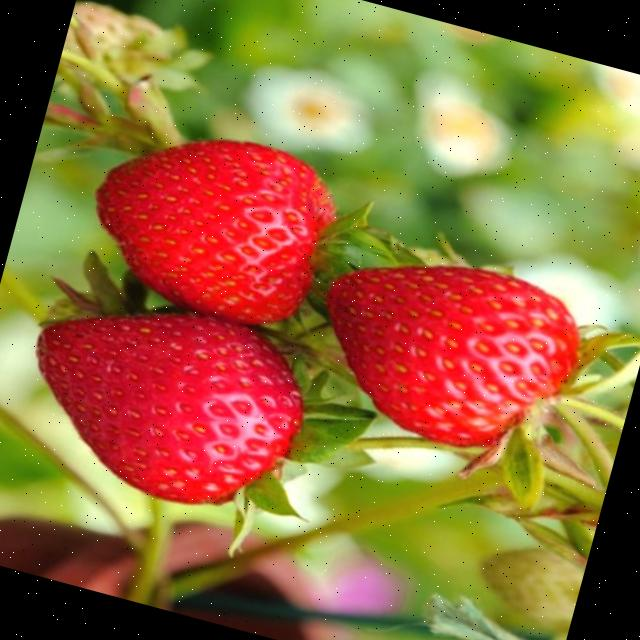strawberry: (36, 314, 301, 504), (325, 265, 577, 447), (95, 140, 334, 324)
